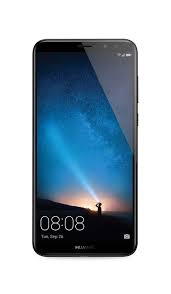huawei: (28, 34, 138, 257)
